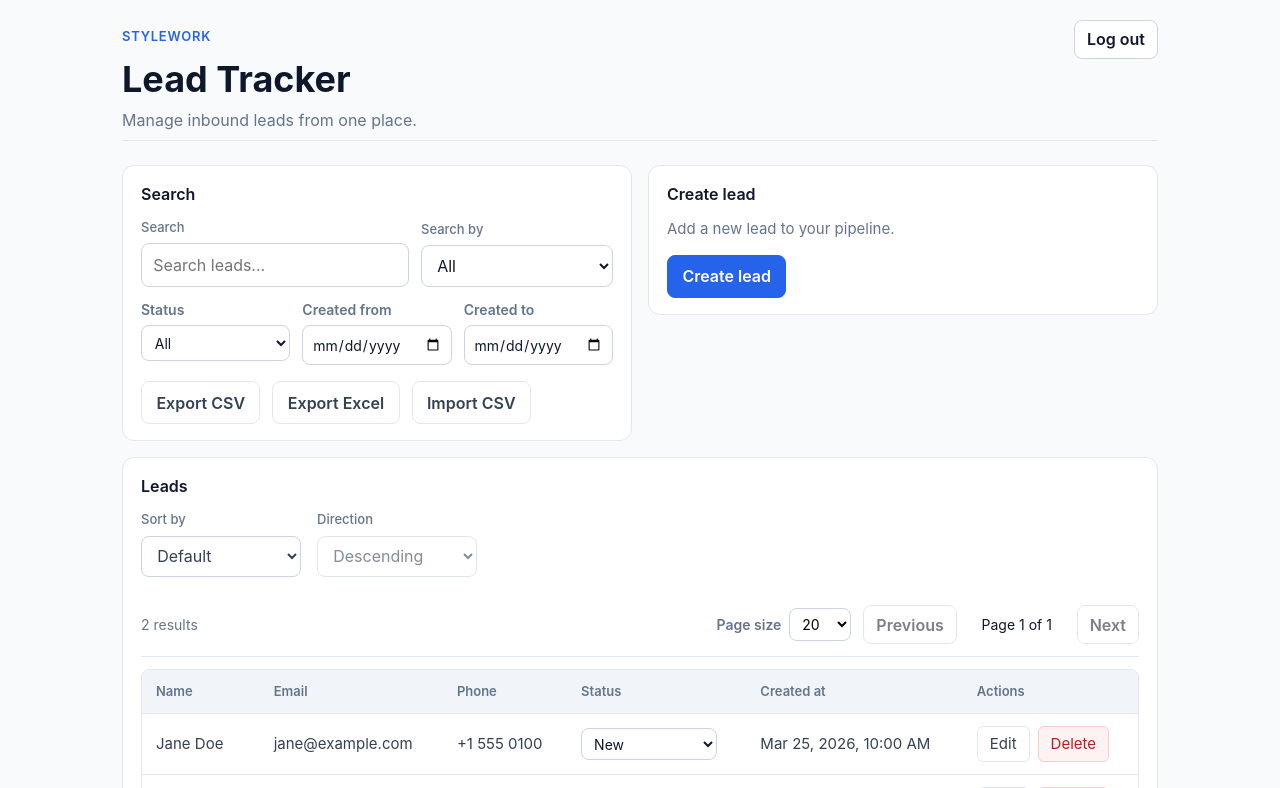
App authentication › returns to login after logout
This screenshot has width=1280, height=788.
Expected: the text "Jane Doe" is shown, left=142, top=714, right=260, bottom=775
Click the button "Log out".
click(1116, 39)  # box left=1074, top=20, right=1158, bottom=59
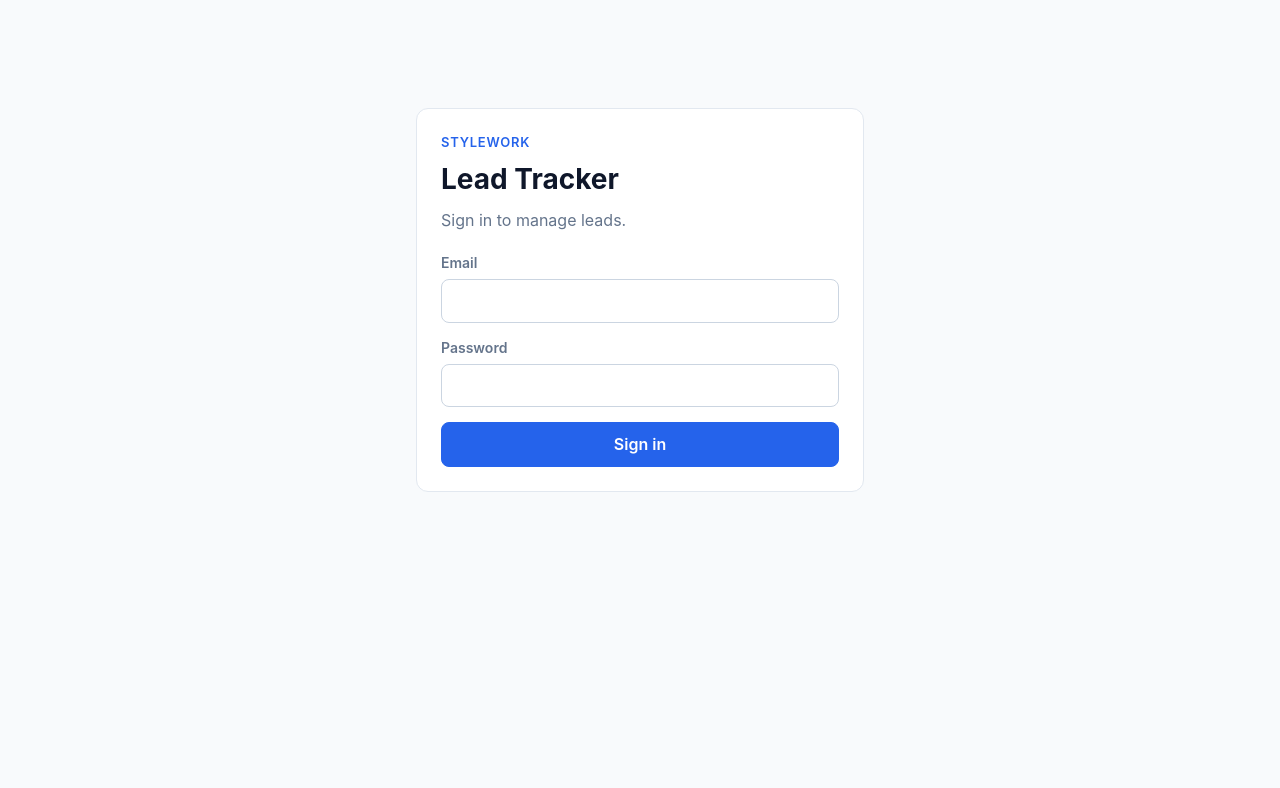
Result: the text "Sign in to manage leads." is shown at left=441, top=210, right=626, bottom=230
